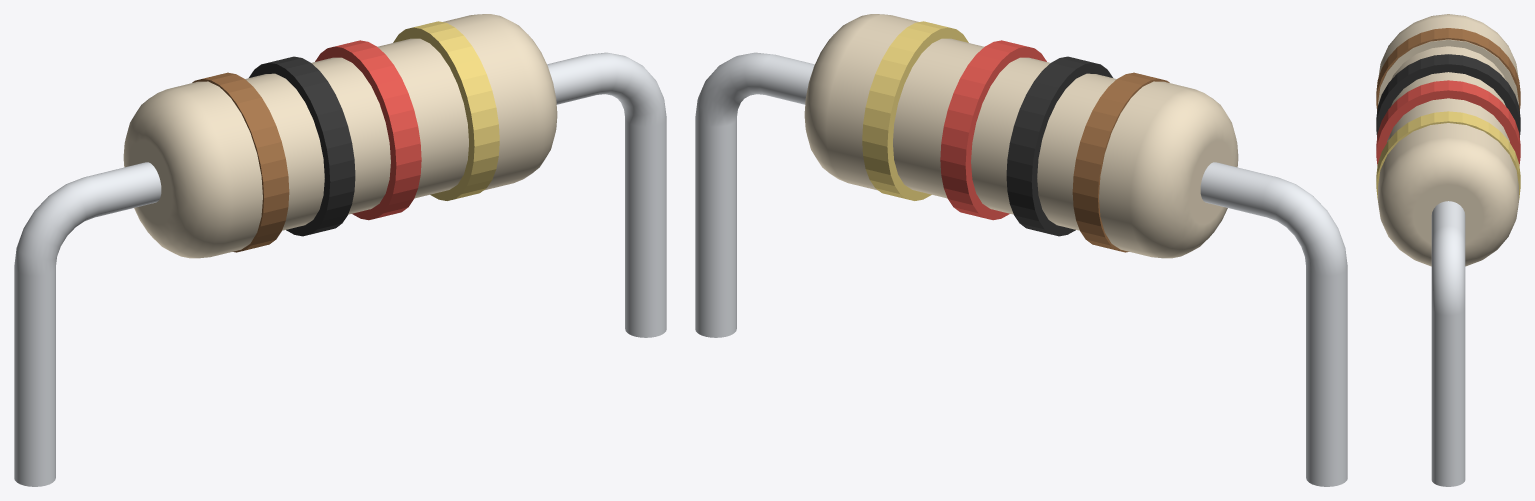
File: resistencia_axial.glb
The picture shows the model from 3 angles, left to right: view 1: azimuth 30°, elevation 25°; view 2: azimuth 150°, elevation 25°; view 3: azimuth 270°, elevation 25°; orthographic projection. The views are drawn at different scales.
Parts seen in each view (by area): view 1: Cuerpo_Resistencia_1, Pines_0, Banda_2_Negro, Banda_3_Rojo, Banda_4_Oro, Banda_1_Marron; view 2: Cuerpo_Resistencia_1, Pines_0, Banda_2_Negro, Banda_3_Rojo, Banda_4_Oro, Banda_1_Marron; view 3: Cuerpo_Resistencia_1, Pines_0, Banda_3_Rojo, Banda_2_Negro, Banda_1_Marron, Banda_4_Oro.
Boxes of the visible parts, bbox=[...] form: Cuerpo_Resistencia_1: bbox=[123, 14, 557, 258]; Pines_0: bbox=[14, 52, 666, 486]; Banda_2_Negro: bbox=[249, 56, 355, 236]; Banda_3_Rojo: bbox=[315, 40, 421, 220]; Banda_4_Oro: bbox=[393, 21, 499, 200]; Banda_1_Marron: bbox=[192, 72, 289, 252]; Cuerpo_Resistencia_1: bbox=[804, 14, 1238, 258]; Pines_0: bbox=[695, 52, 1347, 486]; Banda_2_Negro: bbox=[1006, 56, 1112, 236]; Banda_3_Rojo: bbox=[940, 40, 1046, 220]; Banda_4_Oro: bbox=[862, 21, 968, 200]; Banda_1_Marron: bbox=[1072, 72, 1169, 252]; Cuerpo_Resistencia_1: bbox=[1378, 14, 1518, 266]; Pines_0: bbox=[1431, 201, 1465, 486]; Banda_3_Rojo: bbox=[1376, 80, 1520, 165]; Banda_2_Negro: bbox=[1376, 54, 1520, 137]; Banda_1_Marron: bbox=[1376, 28, 1520, 110]; Banda_4_Oro: bbox=[1376, 111, 1520, 199].
Size of the model in its own units: 10.76 by 5.53 by 2.56.
